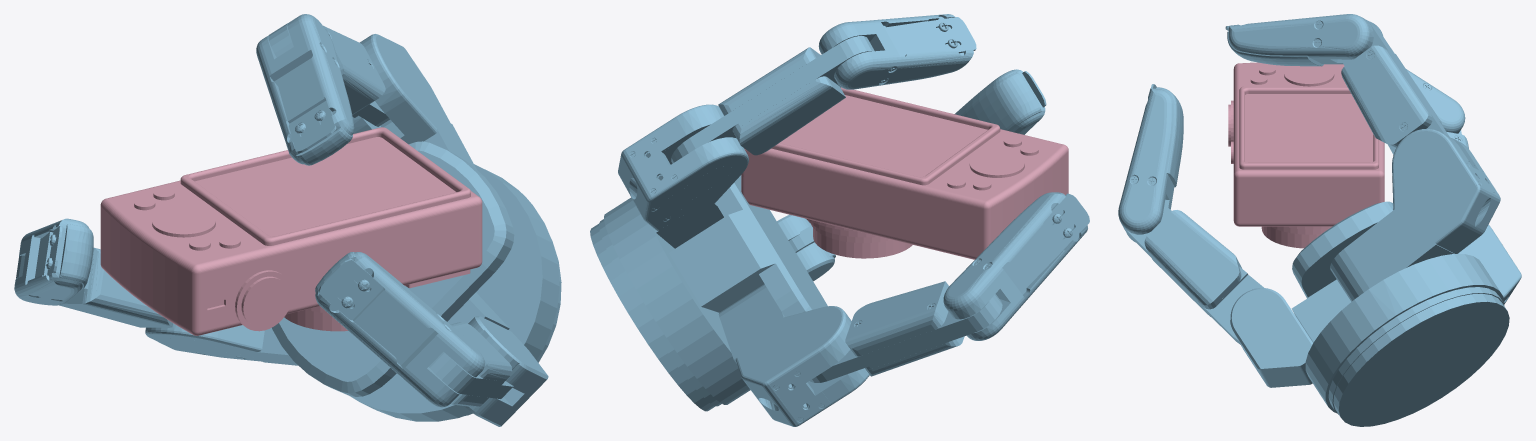
3 views of the same model, side by side, from view 1: azimuth 30°, elevation 25°; view 2: azimuth 150°, elevation 25°; view 3: azimuth 270°, elevation 25° (orthographic). The views are drawn at different scales.
Visible parts, largest first — view 1: world, camera.stl; view 2: world, camera.stl; view 3: world, camera.stl.
Boxes of the visible parts, x1,y1,x2,y2 form: world: (14, 14, 561, 426); camera.stl: (100, 127, 482, 335); world: (590, 14, 1089, 426); camera.stl: (741, 87, 1068, 259); world: (1118, 14, 1521, 426); camera.stl: (1228, 62, 1384, 248).
Size of the model in its own units: 0.2066 by 0.1679 by 0.1731.
